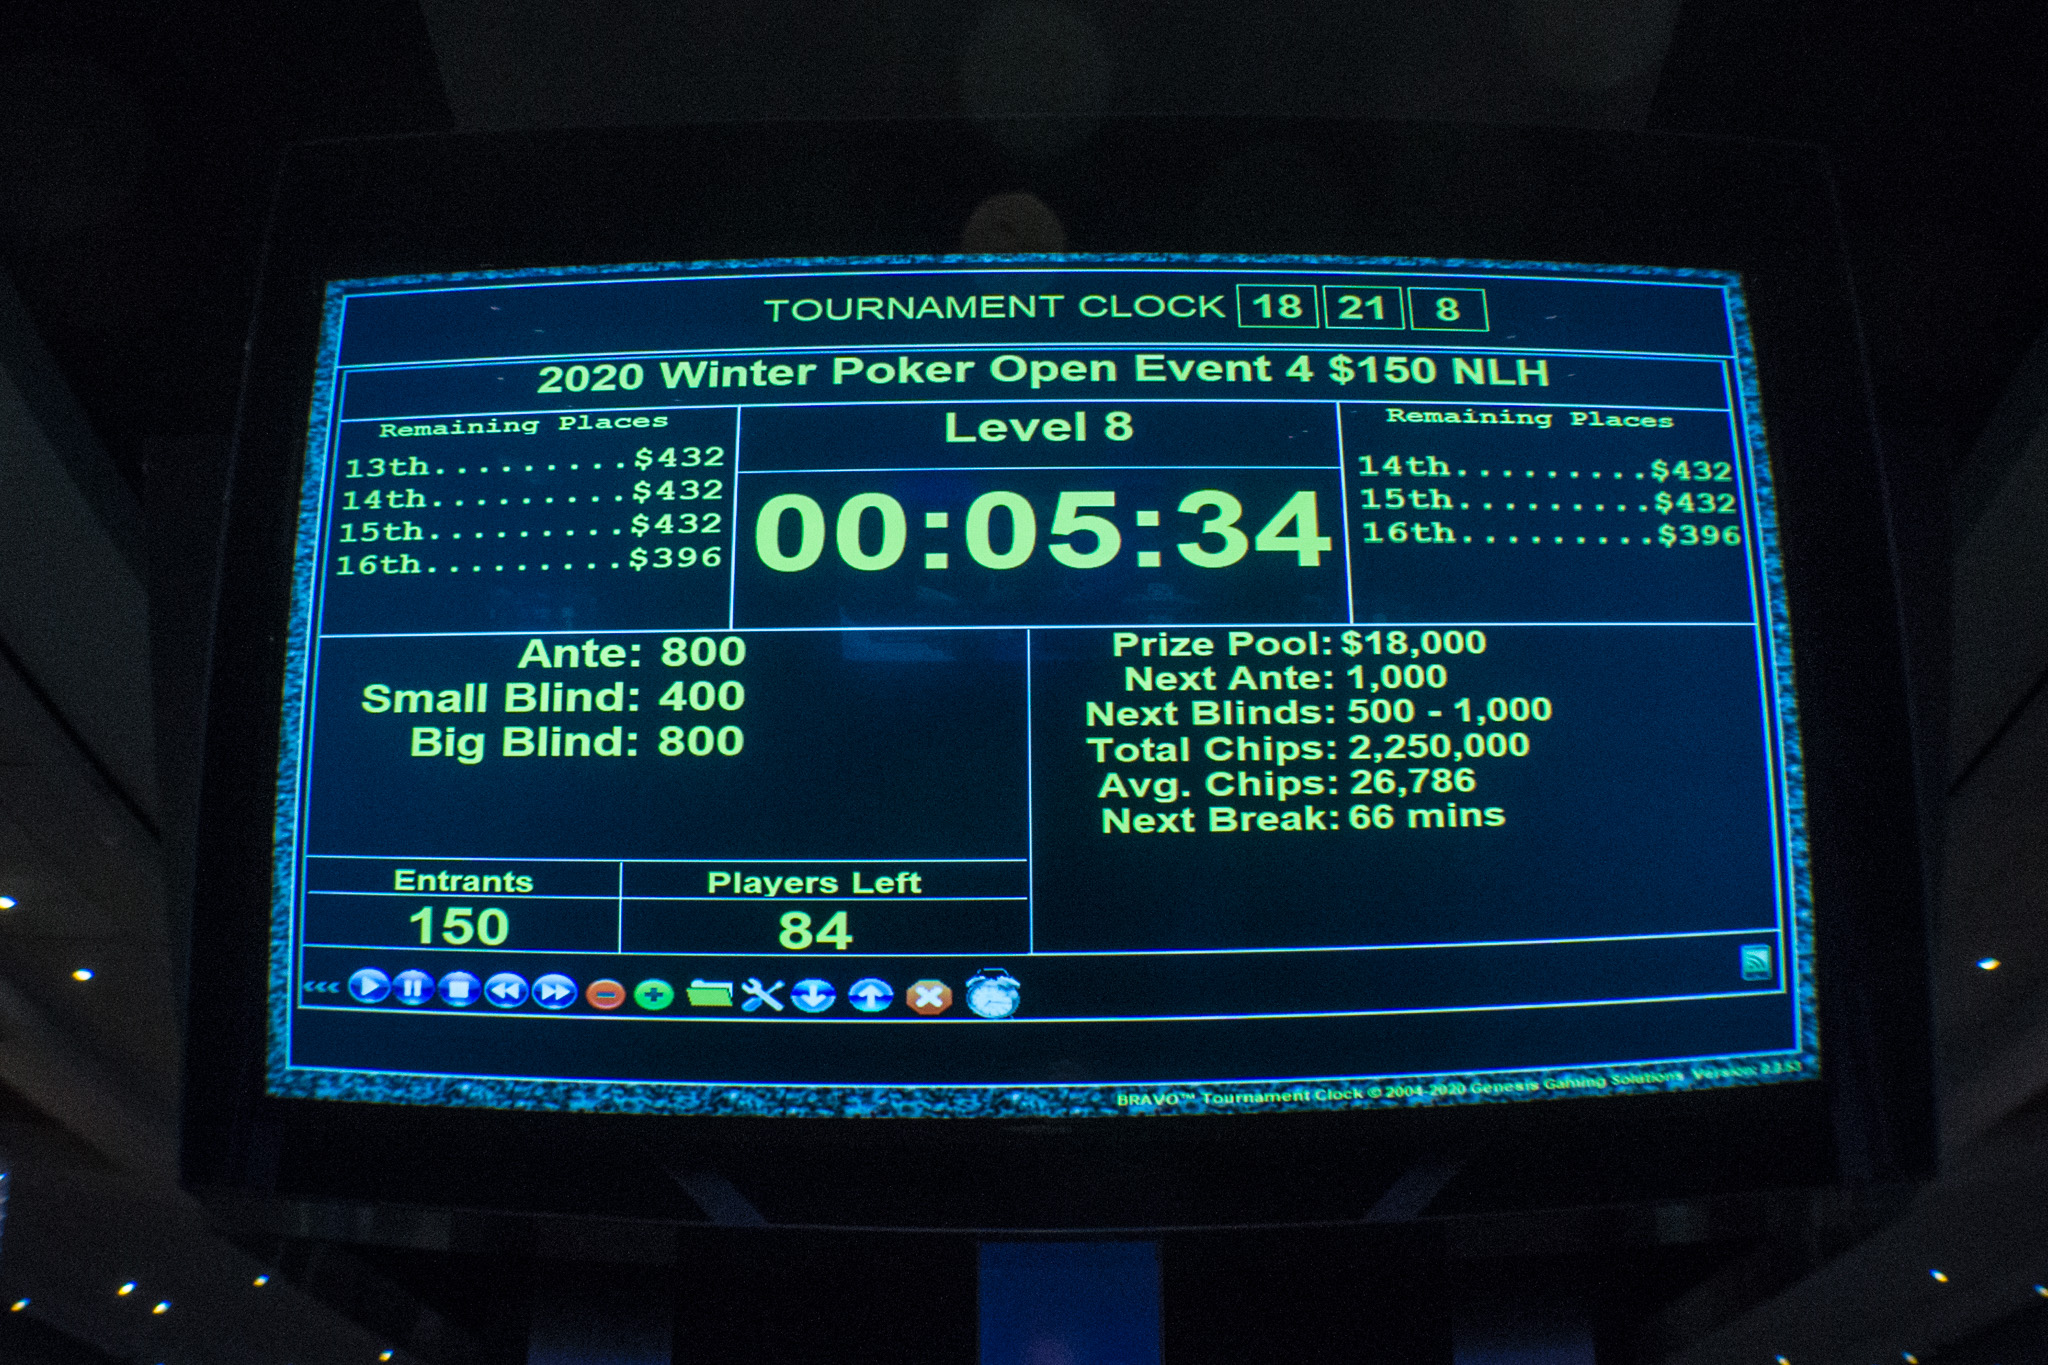PlayersLeft: (617, 853, 1036, 959)
Remaining: (1329, 398, 1761, 631), (313, 411, 739, 639)
TournamentClock: (320, 341, 1785, 941)
